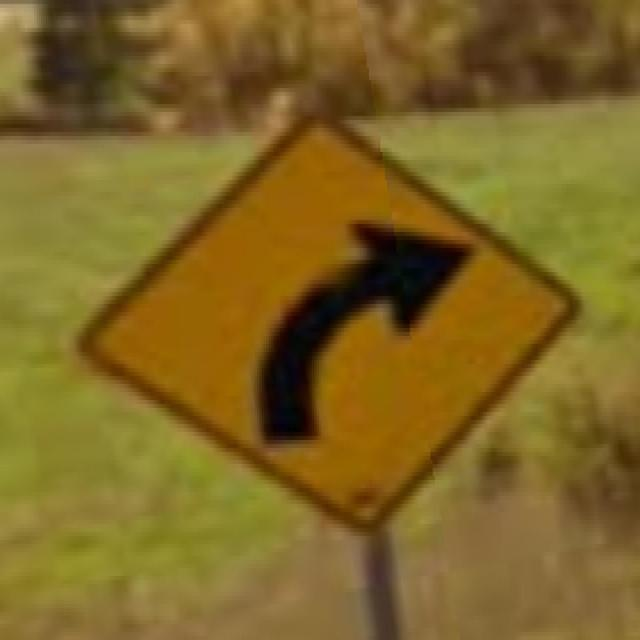Tikungan Ke Kanan: (64, 80, 590, 560)
